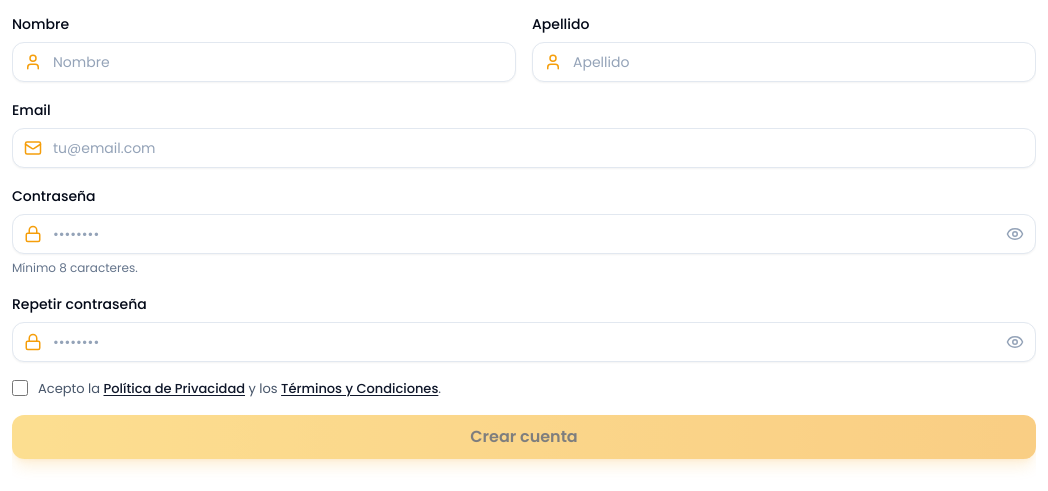
Scenario: RegisterForm — consentimiento › se habilita al aceptar los términos
Click the checkbox at (20, 388), box [12,380,28,396]
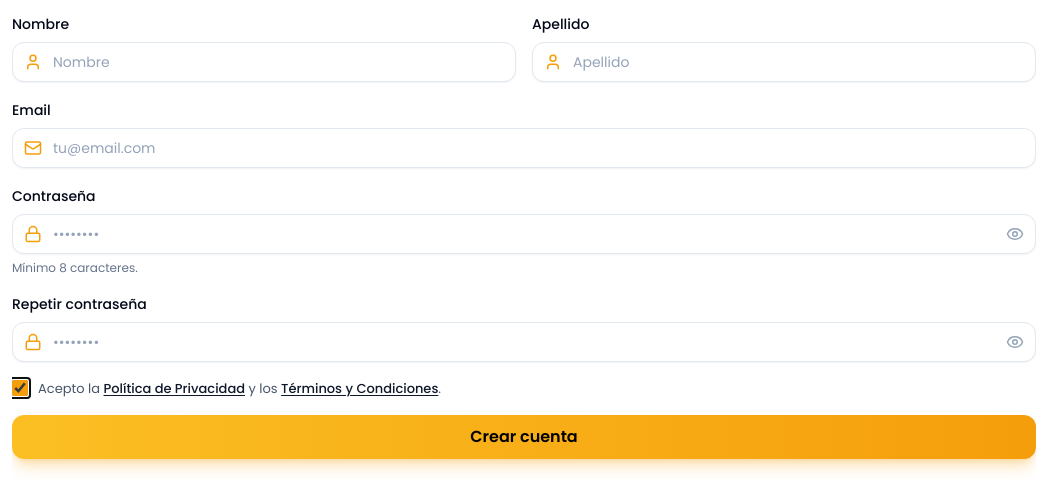
Expected: the button "Crear cuenta" is enabled, [12,415,1036,459]
